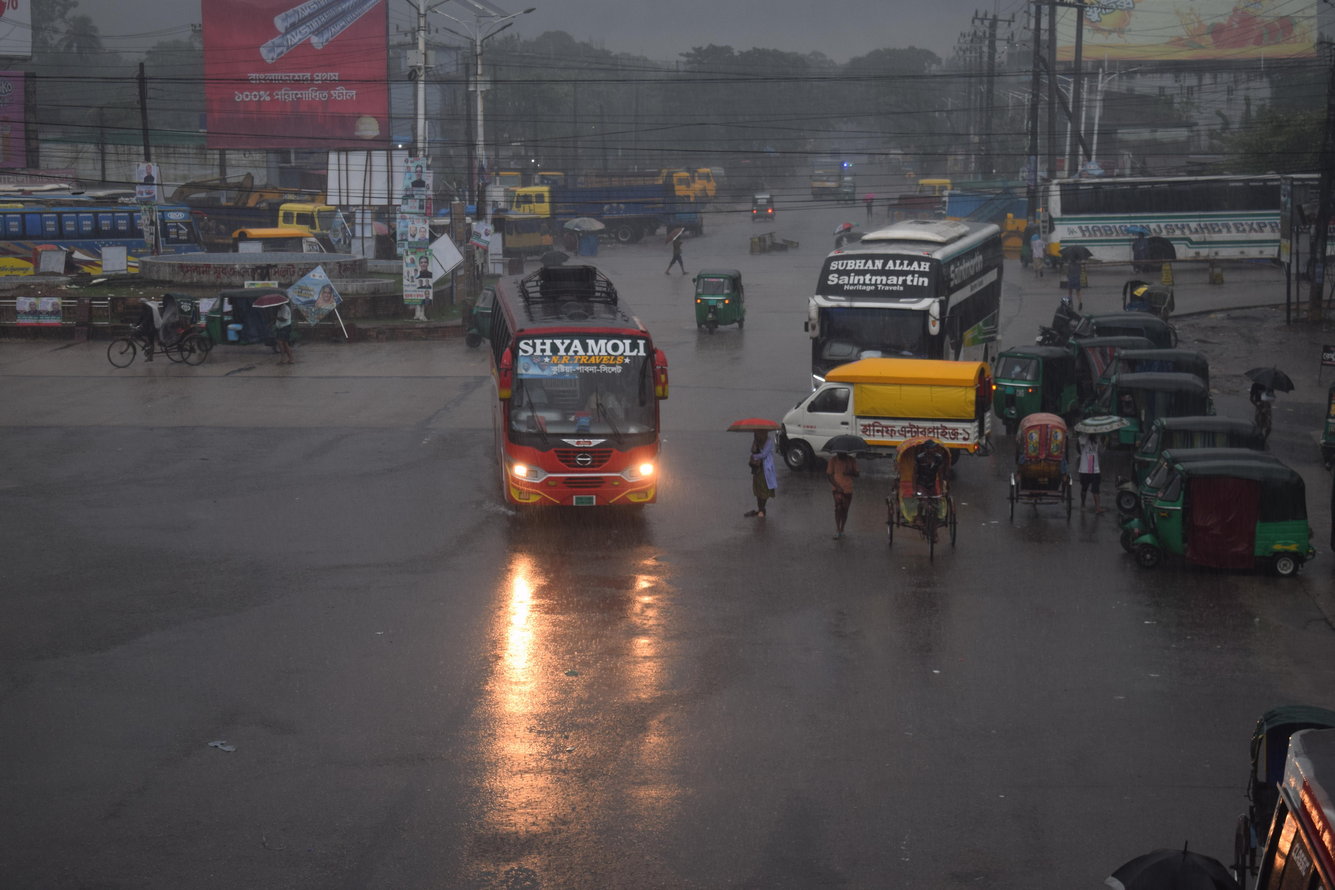Bus: (428, 250, 686, 537), (1007, 125, 1335, 312), (790, 185, 1033, 412), (0, 164, 245, 348), (1207, 668, 1335, 890), (801, 146, 872, 224)
Car: (991, 377, 1106, 559), (871, 417, 979, 581), (86, 273, 224, 391)
Truck: (481, 163, 693, 255)
